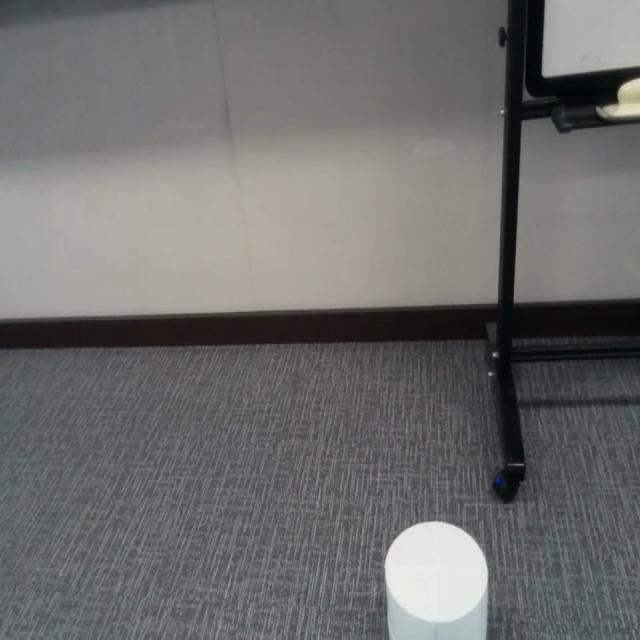cylinder: (384, 519, 491, 638)
